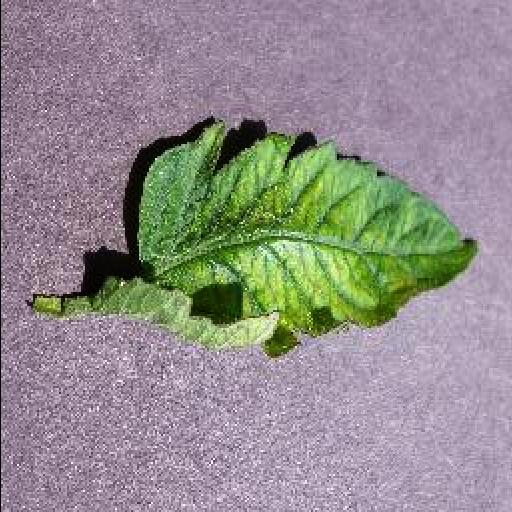Mosaic Virus: (135, 121, 477, 359)
